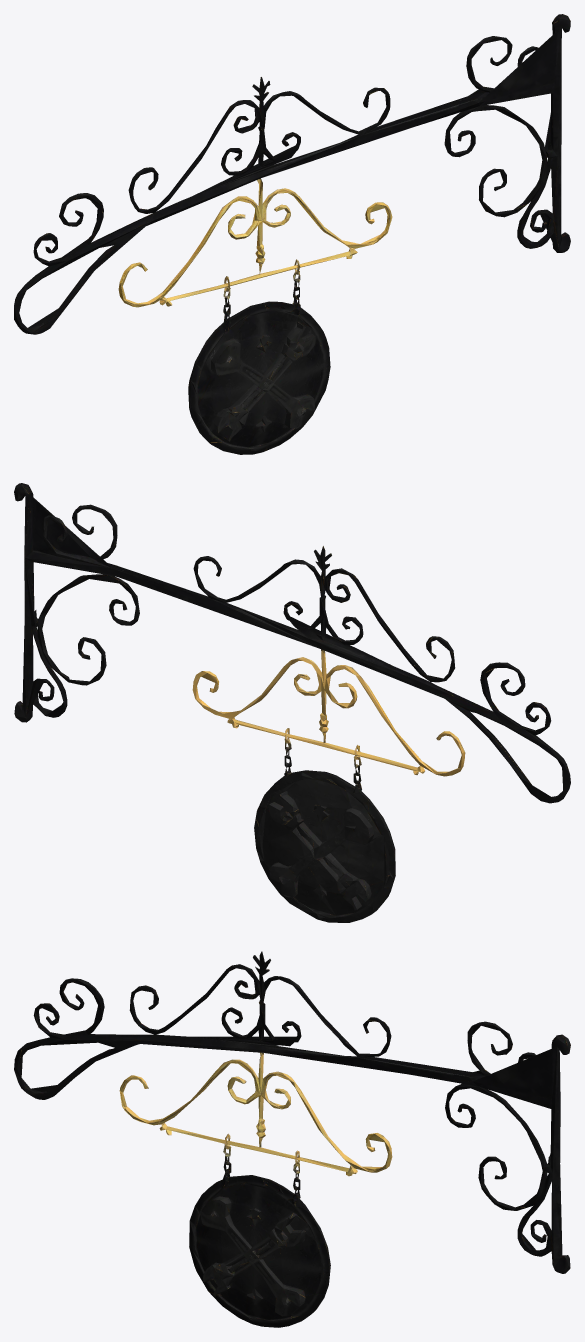
File: garage_signbracket.glb
3 renders of one model, top to bottom at view 1: azimuth 30°, elevation 25°; view 2: azimuth 150°, elevation 25°; view 3: azimuth 330°, elevation 25°, orthographic.
Size of the model in its own units: 1.9 by 1.22 by 0.109.
1 material, 1 textured.
